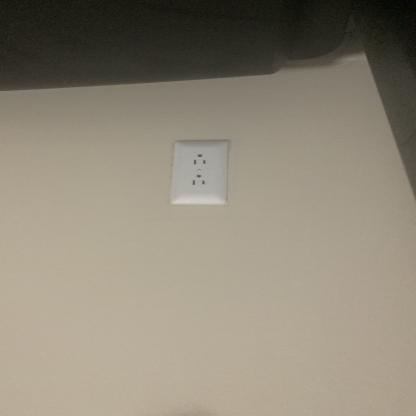OUTLET: (171, 141, 230, 203)
